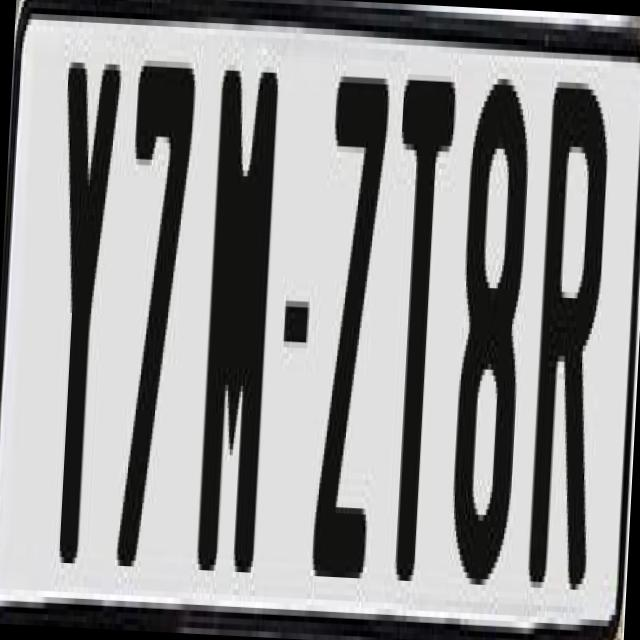7: (108, 48, 198, 569)
8: (444, 65, 536, 580)
M: (196, 70, 278, 578)
R: (526, 81, 611, 614)
T: (377, 74, 459, 606)
Y: (41, 56, 122, 559)
Z: (311, 64, 401, 586)
